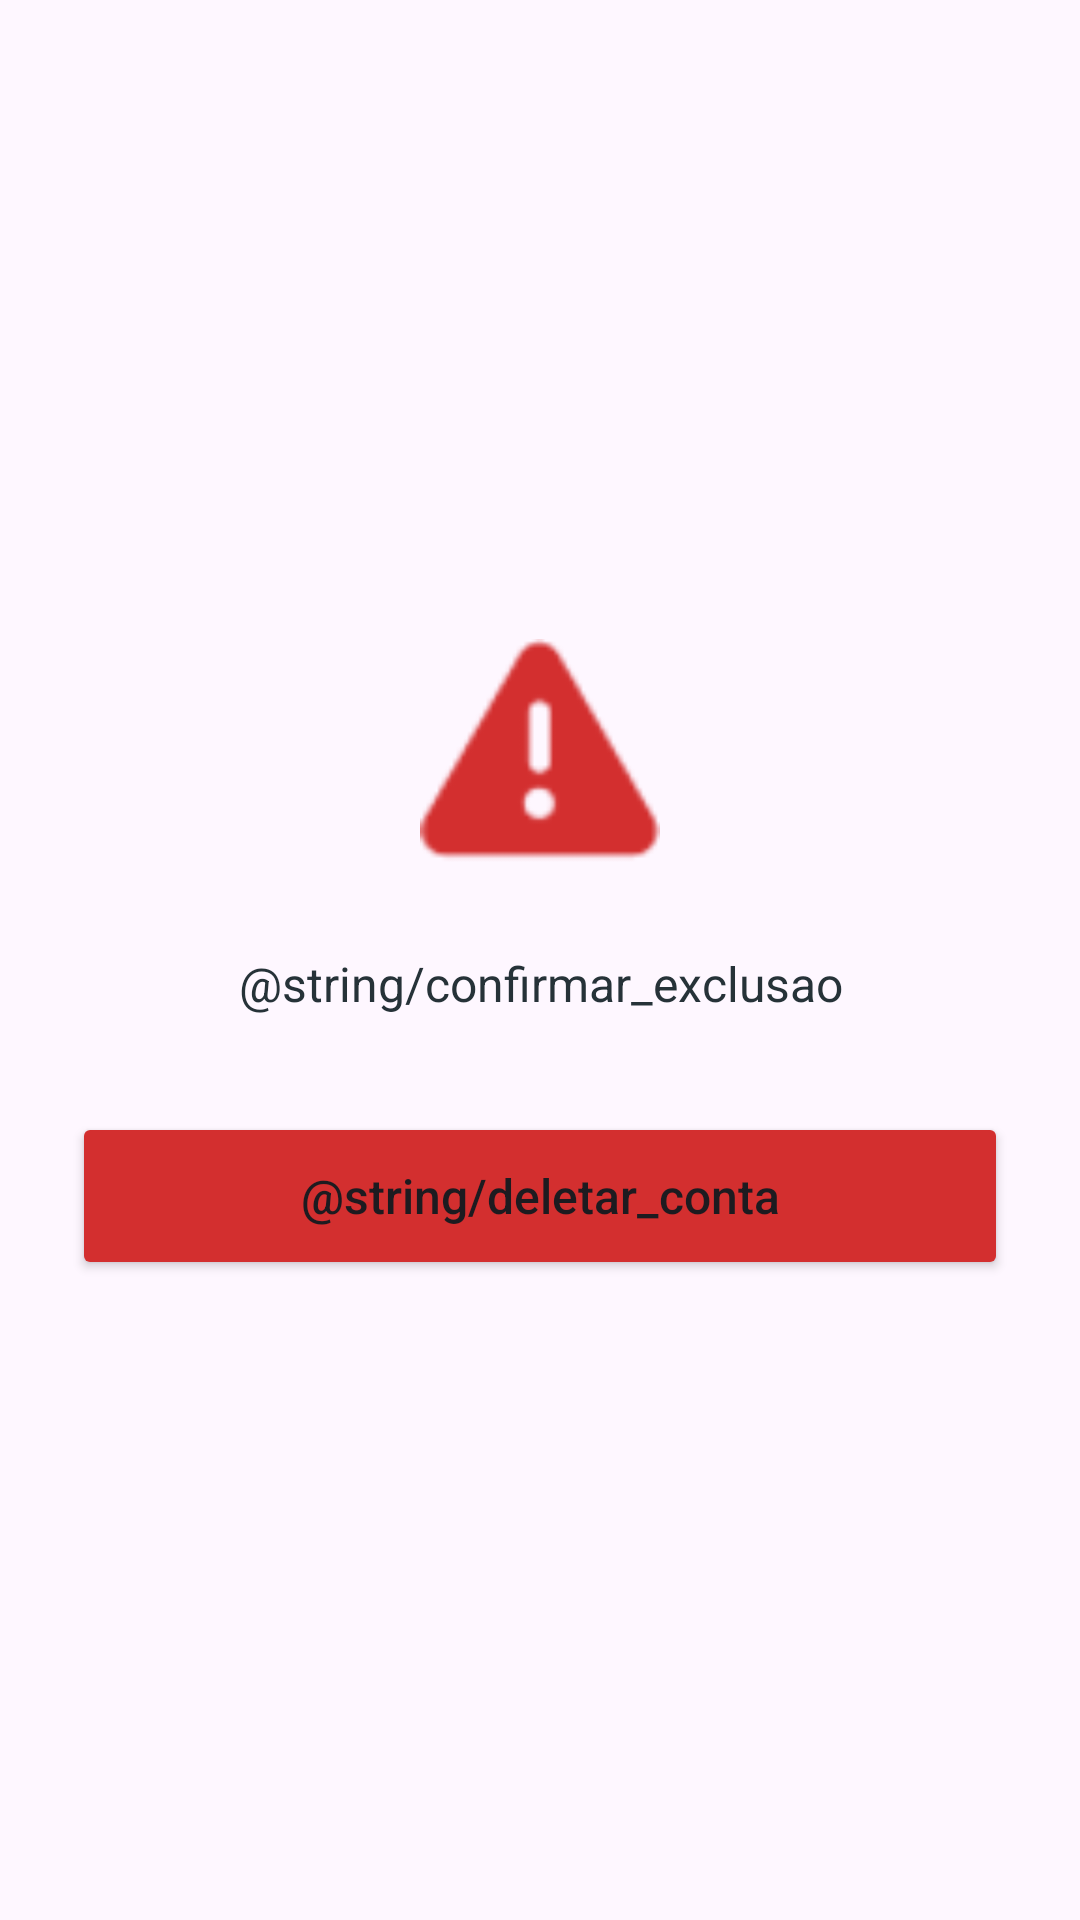

Icon bounding boxes for this 1080x1920 phone screenshot, format rect(x1, y1, x2, y2):
Alerta: rect(420, 639, 660, 858)
